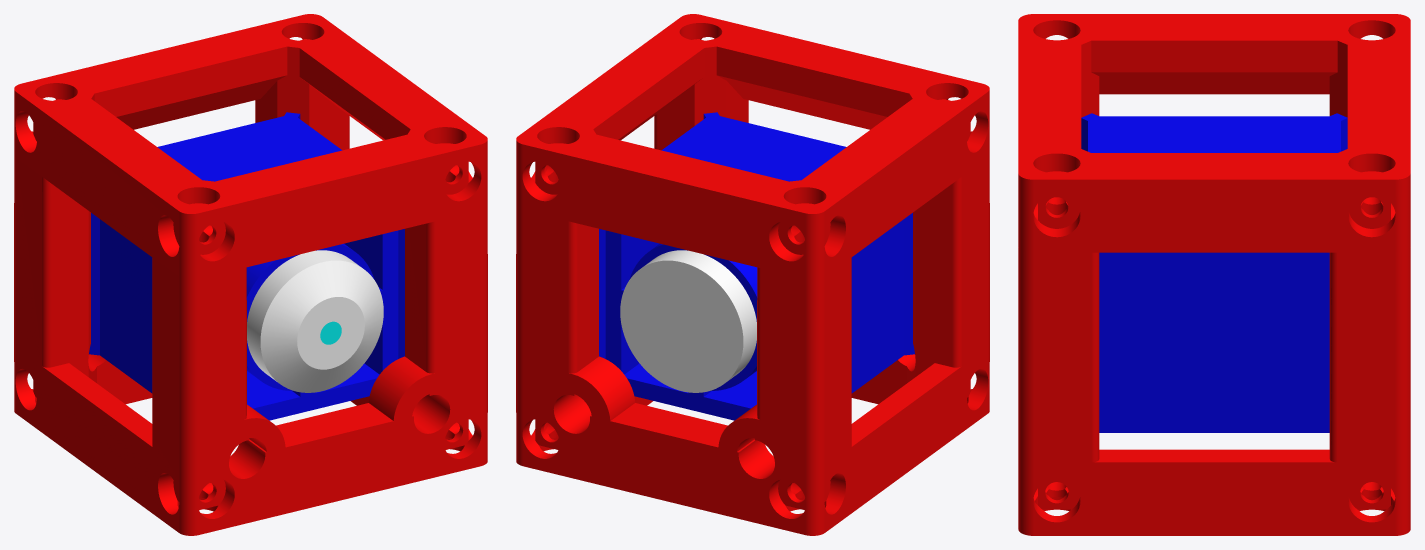
Rendered from Cube 1x1 (Objective).fbx.
3 views of the same model, side by side, from view 1: azimuth 30°, elevation 25°; view 2: azimuth 150°, elevation 25°; view 3: azimuth 270°, elevation 25° (orthographic). The views are drawn at different scales.
Visible parts, largest first — view 1: Base Cube 1x1 (Objective); view 2: Base Cube 1x1 (Objective); view 3: Base Cube 1x1 (Objective).
Boxes of the visible parts, box(x1,y1,x2,y2) form: Base Cube 1x1 (Objective): box(14, 14, 487, 535); Base Cube 1x1 (Objective): box(516, 14, 989, 535); Base Cube 1x1 (Objective): box(1018, 14, 1410, 535).
Bounding box in the file's own units: 4.98 × 4.99 × 4.98.
